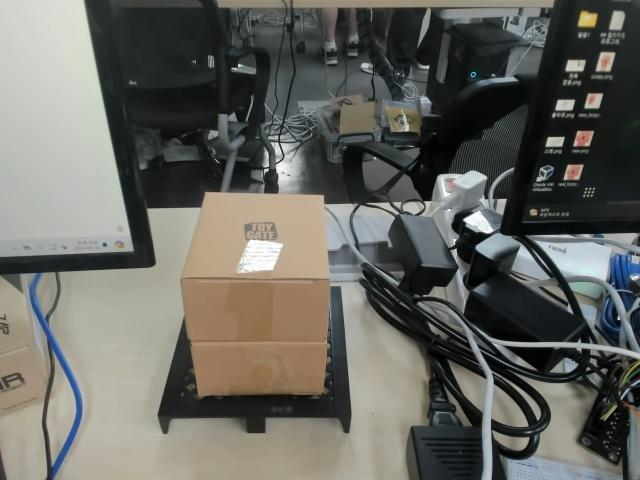box: (156, 192, 353, 437)
